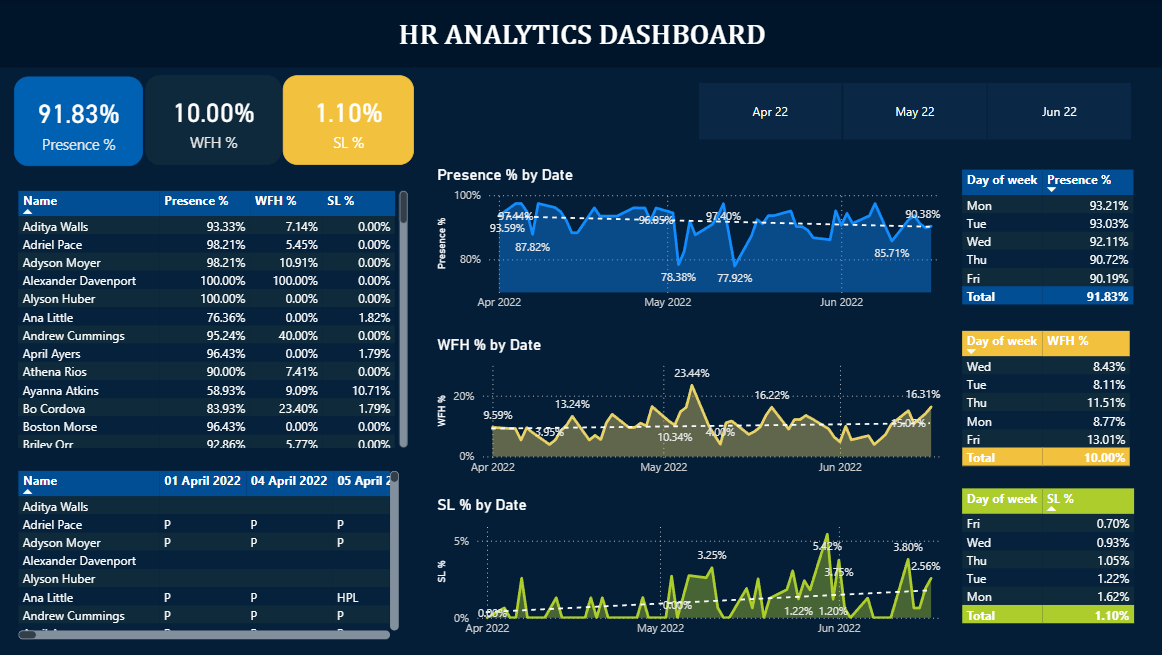

Layout of this report page (visuals, bound fields, positions):
{"tool":"powerbi","page":{"name":"Page 1","canvas":[1280,720],"ordinal":0},"visuals":[{"type":"card","fields":{"Values":["Measure Table.Presence %"]},"box":[17.1,85.7,141.4,98.6],"z":0},{"type":"slicer","fields":{"Values":["Final Data.Month"]},"box":[742.4,85.1,524.2,75.5],"z":1000},{"type":"pivotTable","fields":{"Rows":["Final Data.Name"],"Values":["Measure Table.Presence %","Measure Table.WFH %","Measure Table.SL %"]},"box":[17.1,205.7,437.1,291.4],"z":2000},{"type":"card","fields":{"Values":["Measure Table.WFH %"]},"box":[160.5,83.7,149.6,98.8],"z":3000},{"type":"card","fields":{"Values":["Measure Table.SL %"]},"box":[311.5,83.7,144.1,98.8],"z":4000},{"type":"pivotTable","fields":{"Rows":["Final Data.Name"],"Values":["Min(Final Data.Value)"],"Columns":["Final Data.Date"]},"box":[17.1,512.9,427.1,194.3],"z":5000},{"type":"areaChart","fields":{"Category":["Final Data.Date"],"Y":["Measure Table.Presence %"]},"box":[476.2,182.5,576.3,168.8],"z":6000},{"type":"areaChart","fields":{"Category":["Final Data.Date"],"Y":["Measure Table.WFH %"]},"box":[476.2,369.1,576.3,163.3],"z":7000},{"type":"areaChart","fields":{"Category":["Final Data.Date"],"Y":["Measure Table.SL %"]},"box":[476.2,544.8,576.3,164.7],"z":8000},{"type":"pivotTable","fields":{"Values":["Measure Table.Presence %"],"Rows":["Final Data.Day of week"]},"box":[1052.5,182.5,200.3,177],"z":9000},{"type":"pivotTable","fields":{"Rows":["Final Data.Day of week"],"Values":["Measure Table.WFH %"]},"box":[1052.5,359.5,200.3,163.3],"z":10000},{"type":"pivotTable","fields":{"Rows":["Final Data.Day of week"],"Values":["Measure Table.SL %"]},"box":[1052.5,532.4,200.3,174.3],"z":10001},{"type":"textbox","box":[0,0,1280.3,75.5],"z":10002}]}

Visuals, with their boxes in screenshot pixels (x1, y1, x2, y2), scaled from the page's 1280x720 canvas onto the 1162x655 screenshot:
card - Measure Table.Presence %: <box>16,78,144,168</box>
slicer - Final Data.Month: <box>674,77,1150,146</box>
pivotTable - Final Data.Name x Measure Table.Presence %: <box>16,187,412,452</box>
card - Measure Table.WFH %: <box>146,76,282,166</box>
card - Measure Table.SL %: <box>283,76,414,166</box>
pivotTable - Final Data.Name x Min(Final Data.Value): <box>16,467,403,643</box>
areaChart - Final Data.Date x Measure Table.Presence %: <box>432,166,955,320</box>
areaChart - Final Data.Date x Measure Table.WFH %: <box>432,336,955,484</box>
areaChart - Final Data.Date x Measure Table.SL %: <box>432,496,955,645</box>
pivotTable - Measure Table.Presence % x Final Data.Day of week: <box>955,166,1137,327</box>
pivotTable - Final Data.Day of week x Measure Table.WFH %: <box>955,327,1137,476</box>
pivotTable - Final Data.Day of week x Measure Table.SL %: <box>955,484,1137,643</box>
textbox: <box>0,0,1161,69</box>
